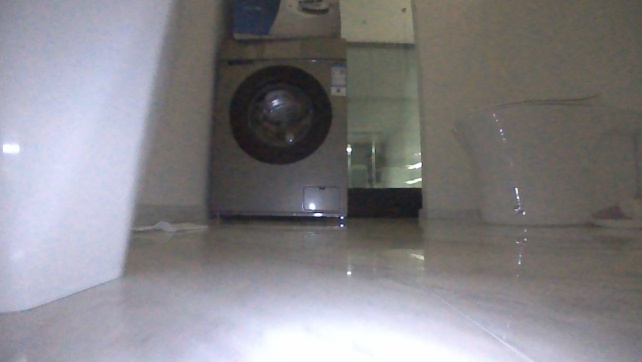socks: (130, 216, 206, 235)
toilet: (445, 90, 639, 229)
trash_can: (0, 0, 176, 319)
washing_machine: (204, 36, 351, 225)
